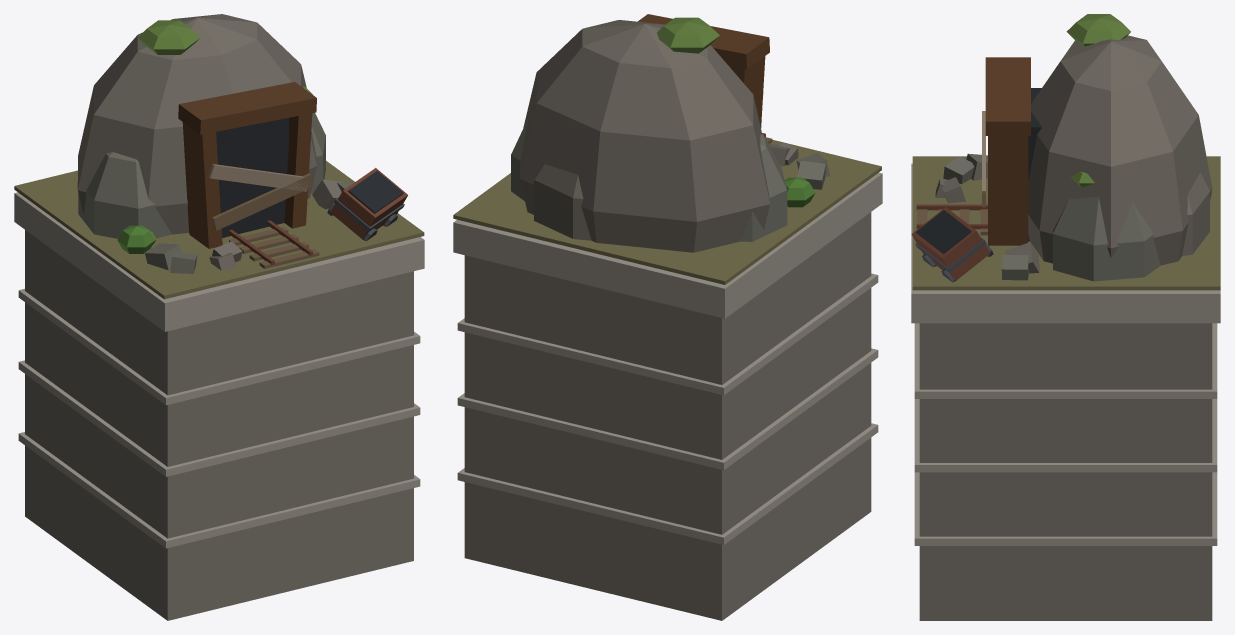
The model's file is decor_mine_entrance.glb.
3 views of the same model, side by side, from view 1: azimuth 30°, elevation 25°; view 2: azimuth 150°, elevation 25°; view 3: azimuth 270°, elevation 25° (orthographic). The views are drawn at different scales.
Visible parts, largest first — view 1: decor_mine_entrance; view 2: decor_mine_entrance; view 3: decor_mine_entrance.
Part boxes in pixels (box(x1,y1,x2,y2)): decor_mine_entrance: box(14, 14, 424, 620); decor_mine_entrance: box(453, 14, 882, 620); decor_mine_entrance: box(911, 14, 1220, 620).
Bounding box in the file's own units: 3.8 × 7.13 × 3.81.
